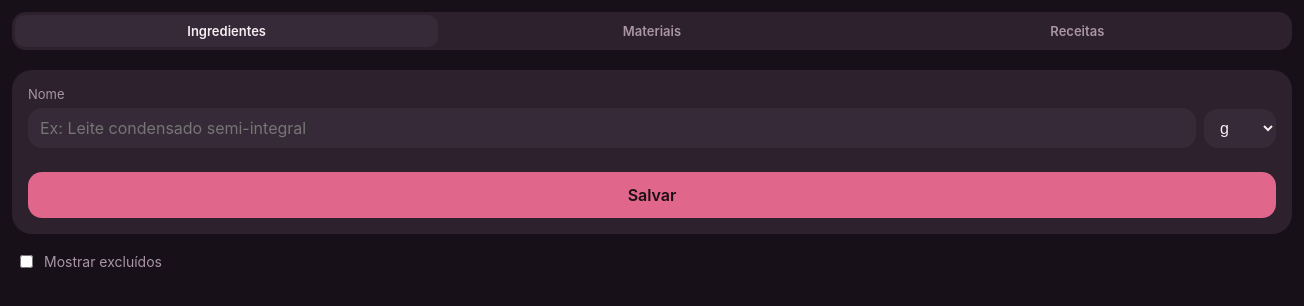
Test: CatalogTab › renders the Ingredient, Material, and Recipe sections and navigates between them
The image size is (1304, 306).
Expected: the button "Ingredientes" is shown, [15,15,438,47]
Expected: the button "Receitas" is shown, [866,15,1289,47]
Click the button "Materiais" at point(652, 31), box [440,15,864,47]
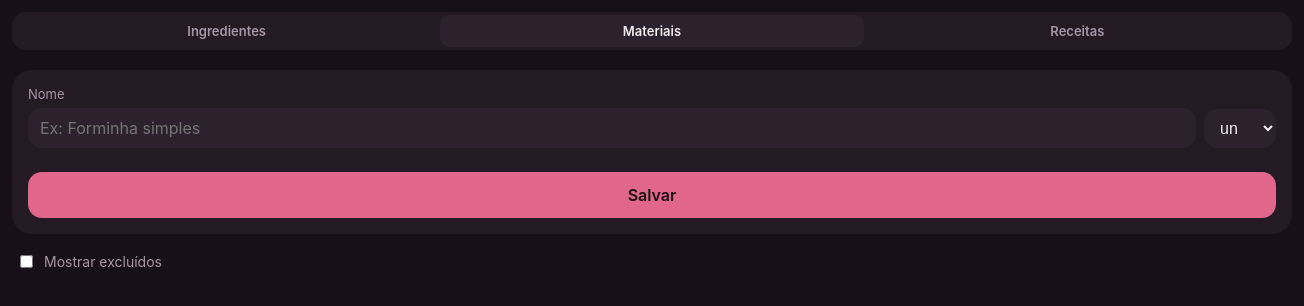
Now the element named "Materiais" is shown
Click the button "Receitas" at point(1077, 31), box [866,15,1289,47]
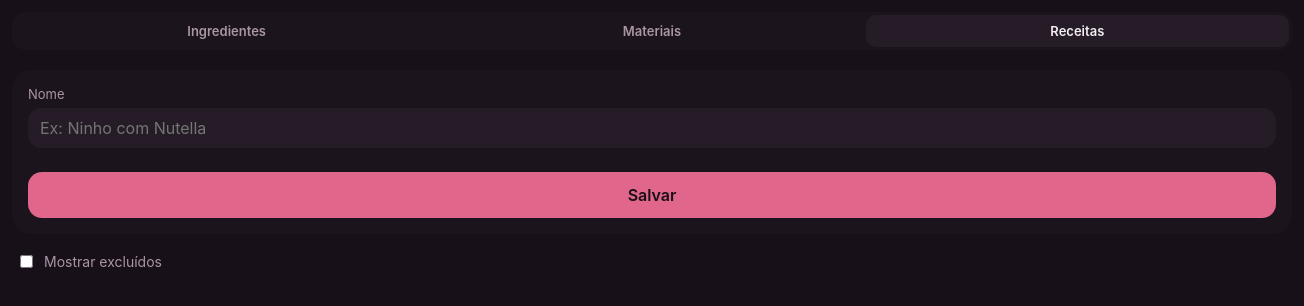
Now the element named "Receitas" is shown
